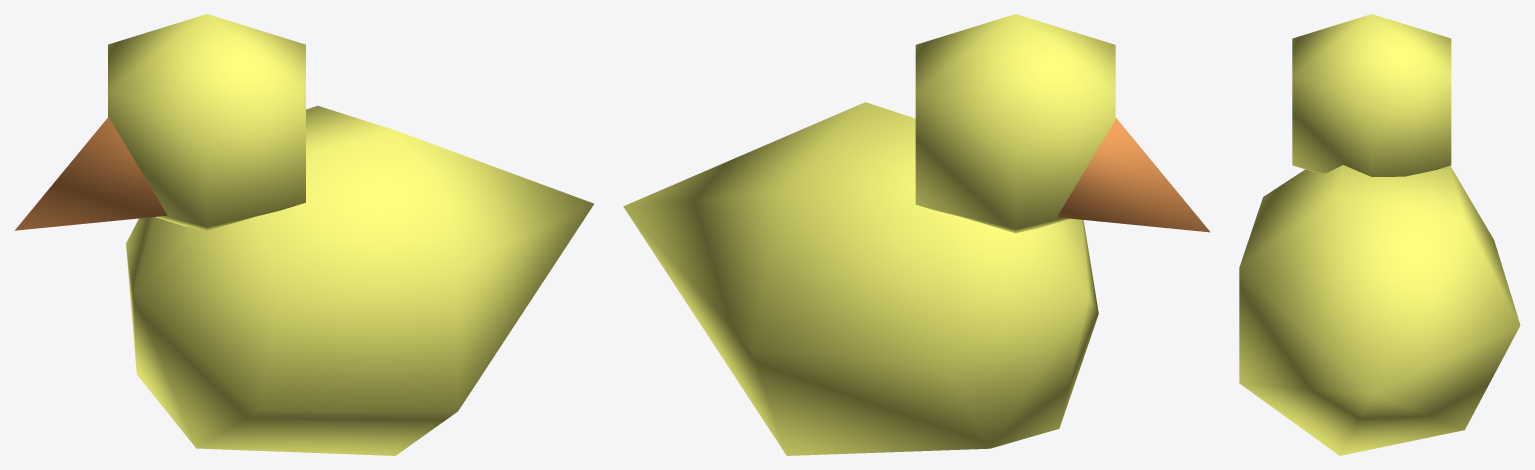
File: Duck.FBX
The picture shows the model from 3 angles, left to right: view 1: azimuth 30°, elevation 25°; view 2: azimuth 150°, elevation 25°; view 3: azimuth 270°, elevation 25°; orthographic projection. The views are drawn at different scales.
Visible parts, largest first — view 1: Duck; view 2: Duck; view 3: Duck.
Part boxes in pixels (x1,y1,x2,y2): Duck: [15, 14, 593, 455]; Duck: [623, 14, 1210, 455]; Duck: [1239, 14, 1520, 455].
Bounding box in the file's own units: 8.34 × 6.43 × 4.35.
Materials: 1 (1 with a texture image).
